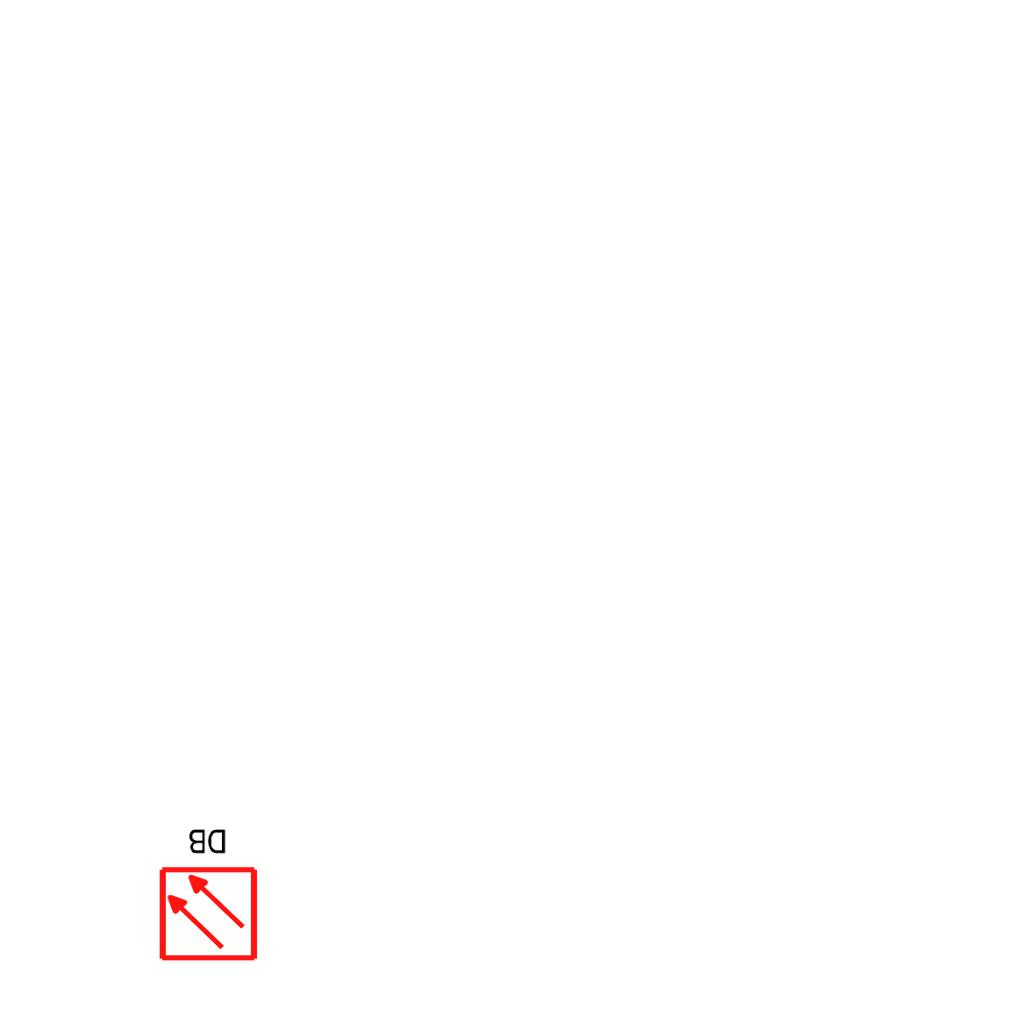DB_Melder_in_Doppelboden_mit_Revisionsoeffnung_mind_40_x_40_cm: (150, 819, 264, 968)
